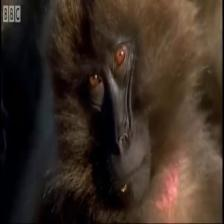monkey: (56, 0, 177, 217)
